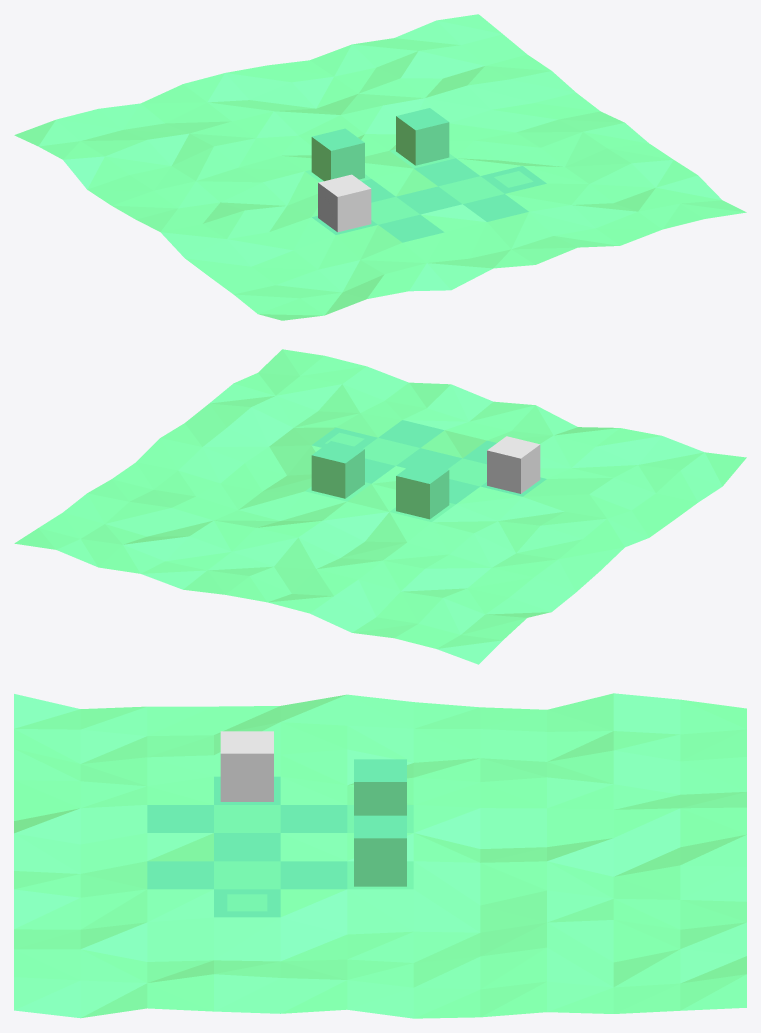
The model's file is Level59.dae.
The picture shows the model from 3 angles, top to bottom: view 1: azimuth 30°, elevation 25°; view 2: azimuth 150°, elevation 25°; view 3: azimuth 270°, elevation 25°; orthographic projection. The views are drawn at different scales.
Parts seen in each view (by area): view 1: surface, Blocky, Enemy1, Enemy0; view 2: surface, Enemy0, Blocky, Enemy1; view 3: surface, Blocky, Enemy1, Enemy0.
Boxes of the visible parts, <box> form: surface: <box>14,14,746,320</box>; Blocky: <box>318,174,371,232</box>; Enemy1: <box>396,108,449,165</box>; Enemy0: <box>311,128,364,181</box>; surface: <box>14,349,746,664</box>; Enemy0: <box>396,461,449,519</box>; Blocky: <box>487,436,540,493</box>; Enemy1: <box>311,441,364,498</box>; surface: <box>14,693,746,1018</box>; Blocky: <box>220,731,273,801</box>; Enemy1: <box>354,815,406,886</box>; Enemy0: <box>354,759,406,815</box>.
Size of the model in its own units: 11 by 11 by 1.1.
